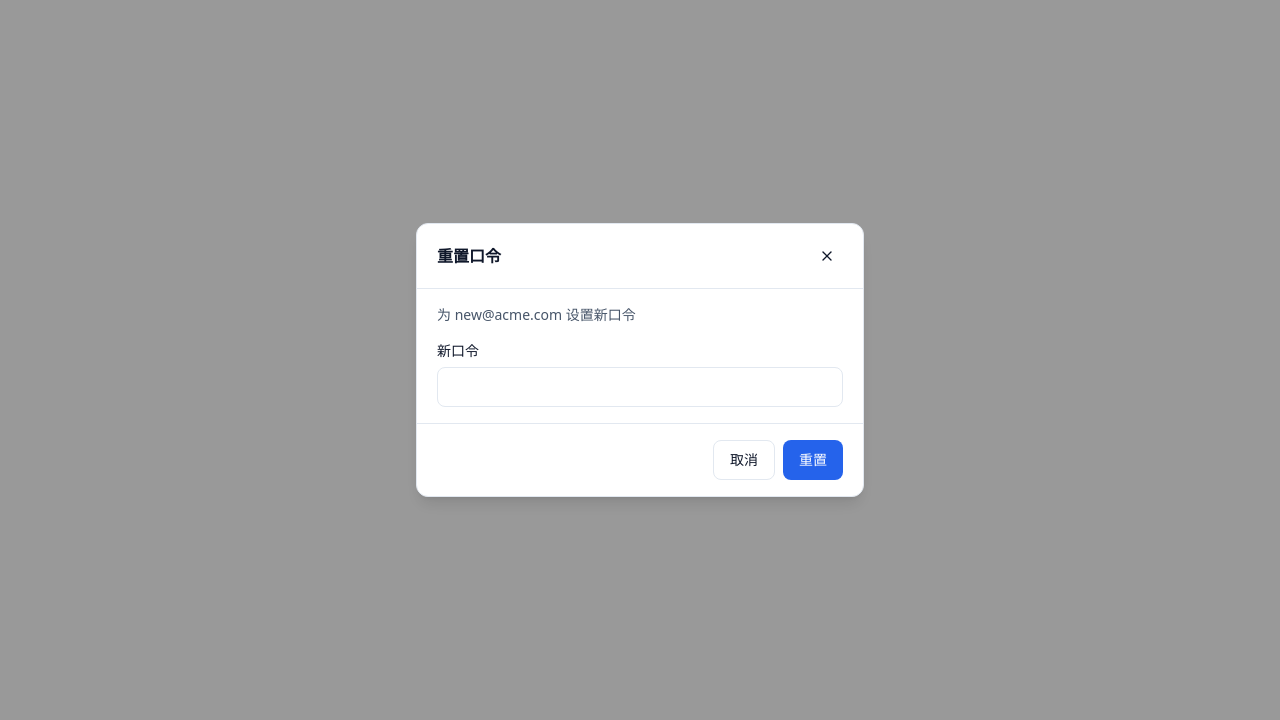
Test: ResetPasswordDialog › reports a 404 as unavailable instead of naming a cause the response does not carry
Type "New-Pass-1" into the password field labelled "新口令" at (640, 387), box [437,367,843,407]
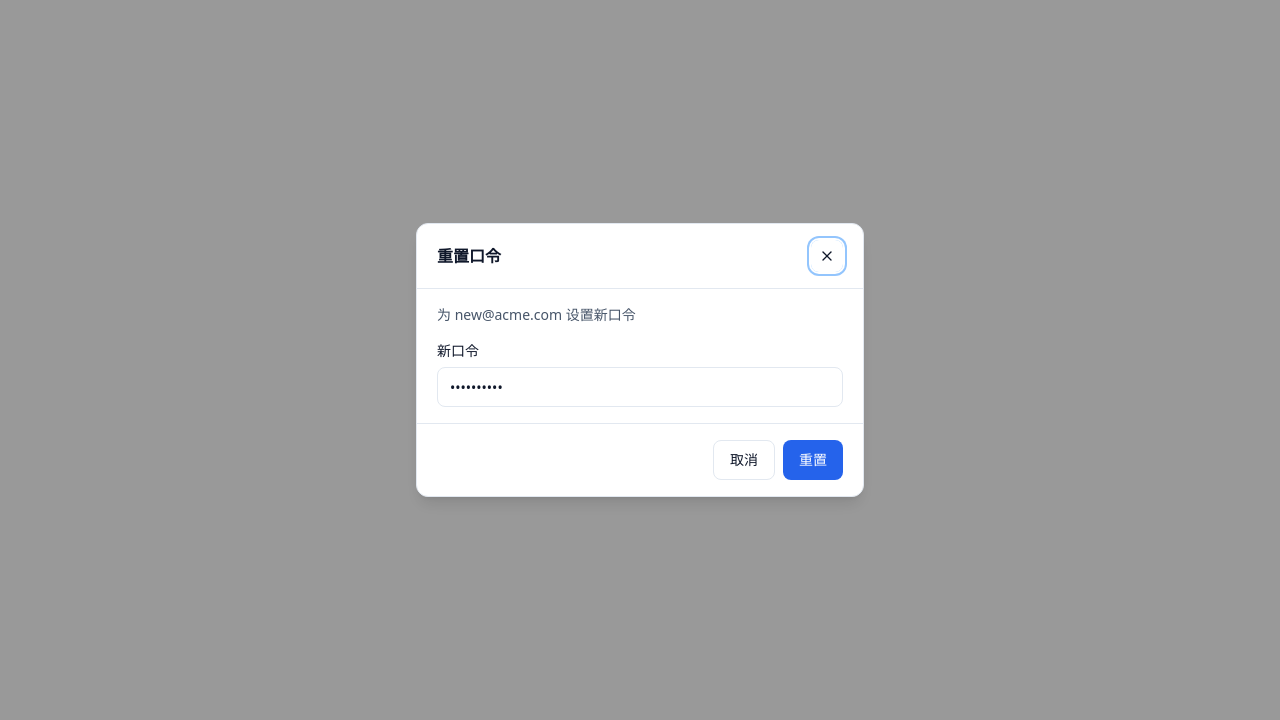
Click the button "重置" at (813, 460), box [783,440,843,480]
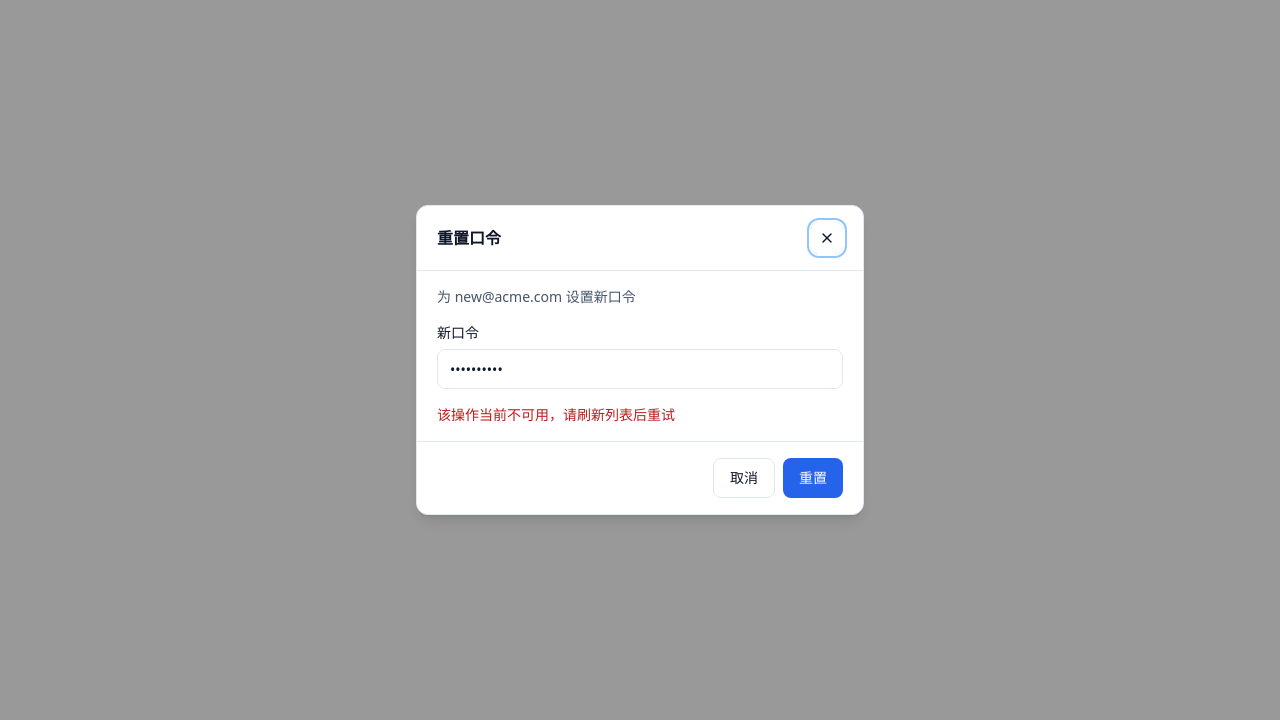
Expected: the message reads "该操作当前不可用，请刷新列表后重试", [437,405,675,424]
